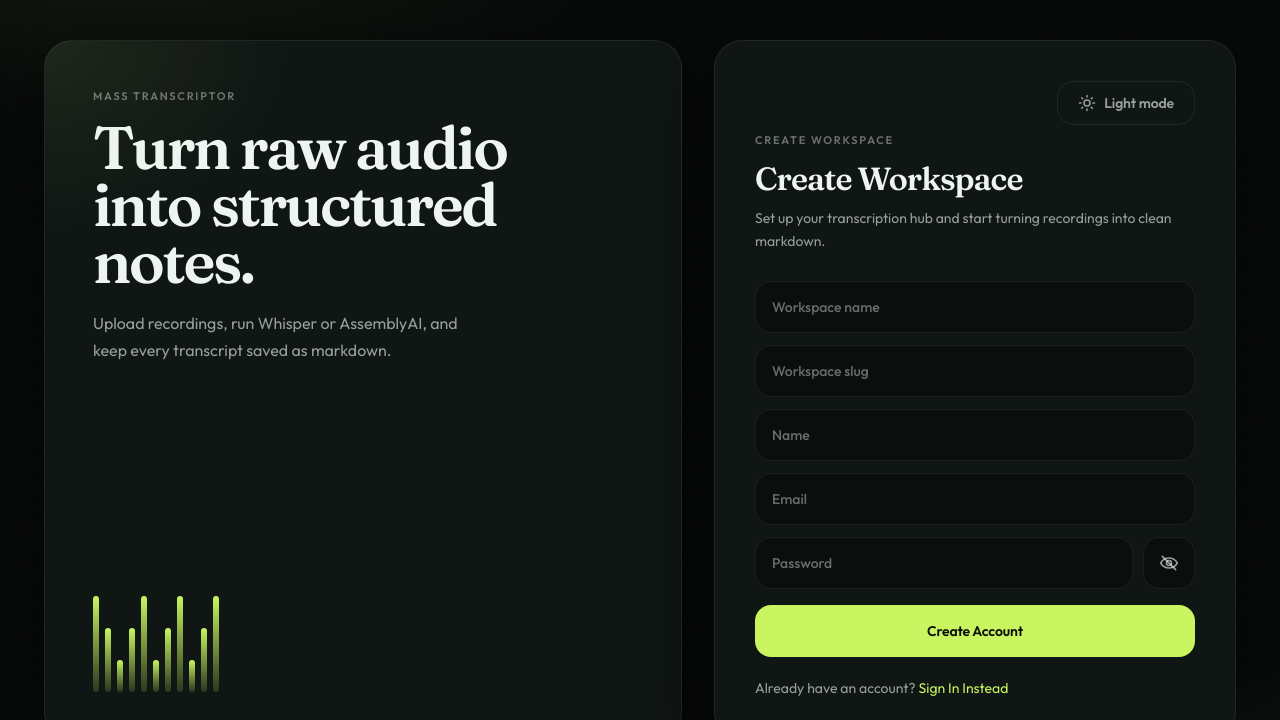
Test: signup stores auth and redirects to workspace
In the field labelled "Workspace name": point(975, 307) x1=755 y1=281 x2=1195 y2=333, type "Acme"
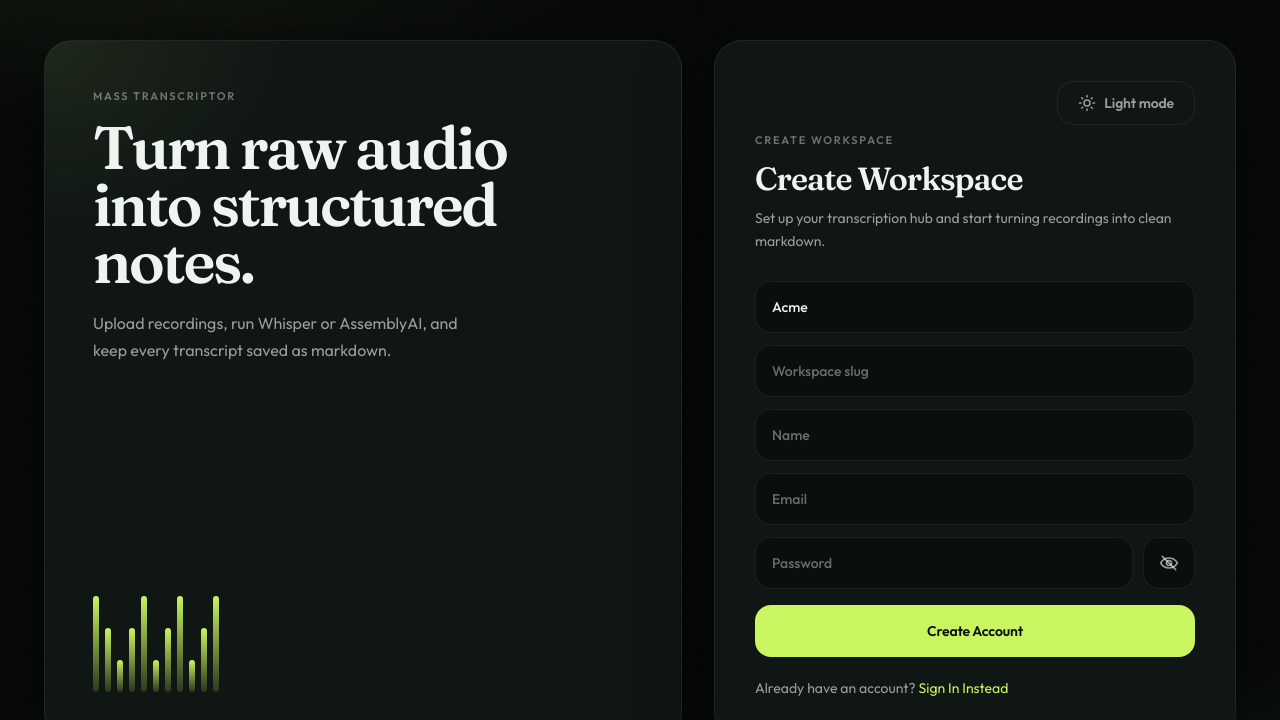
In the field labelled "Workspace slug": point(975, 371) x1=755 y1=345 x2=1195 y2=397, type "acme"
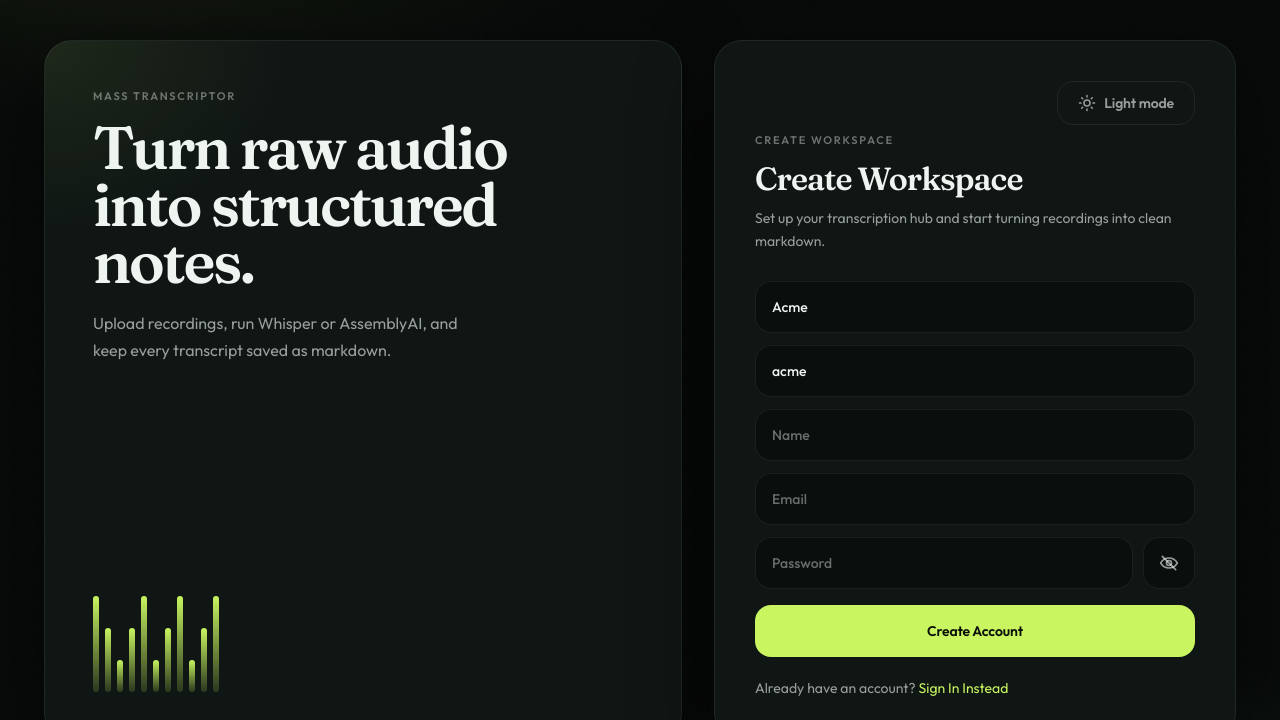
In the field labelled "Name": point(975, 435) x1=755 y1=409 x2=1195 y2=461, type "Owner"
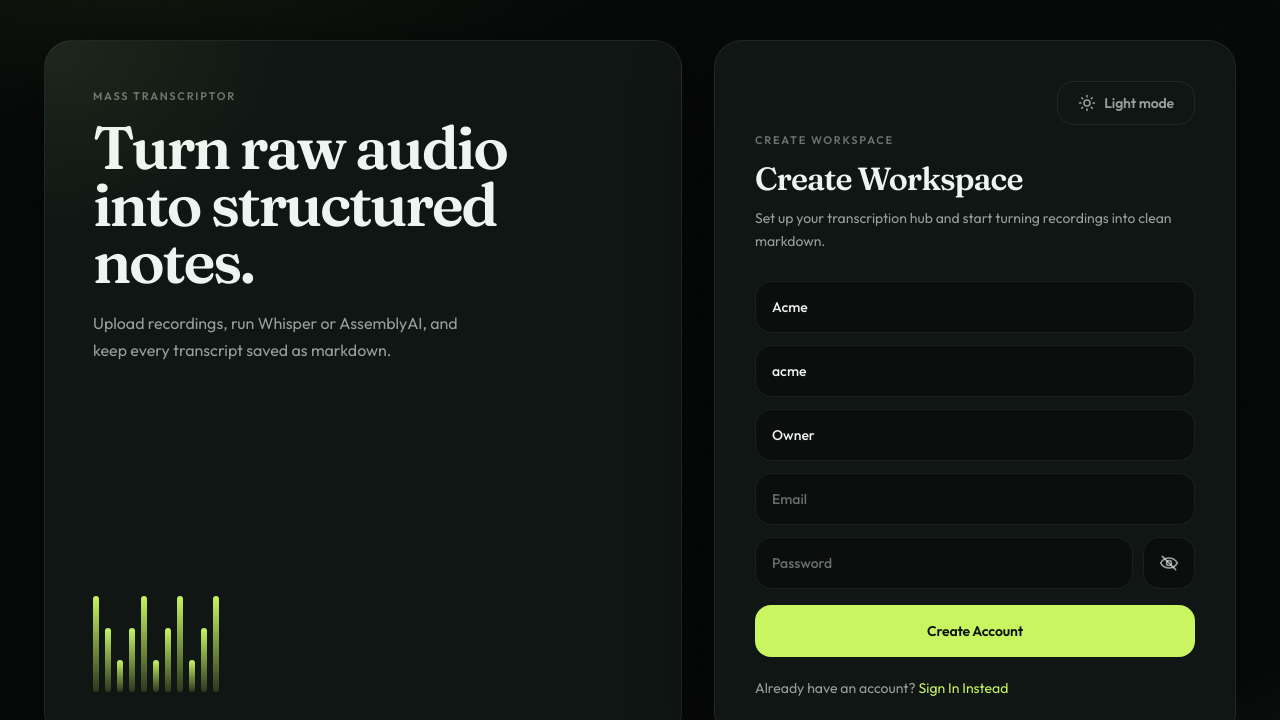
In the field labelled "Email": point(975, 499) x1=755 y1=473 x2=1195 y2=525, type "owner@example.com"
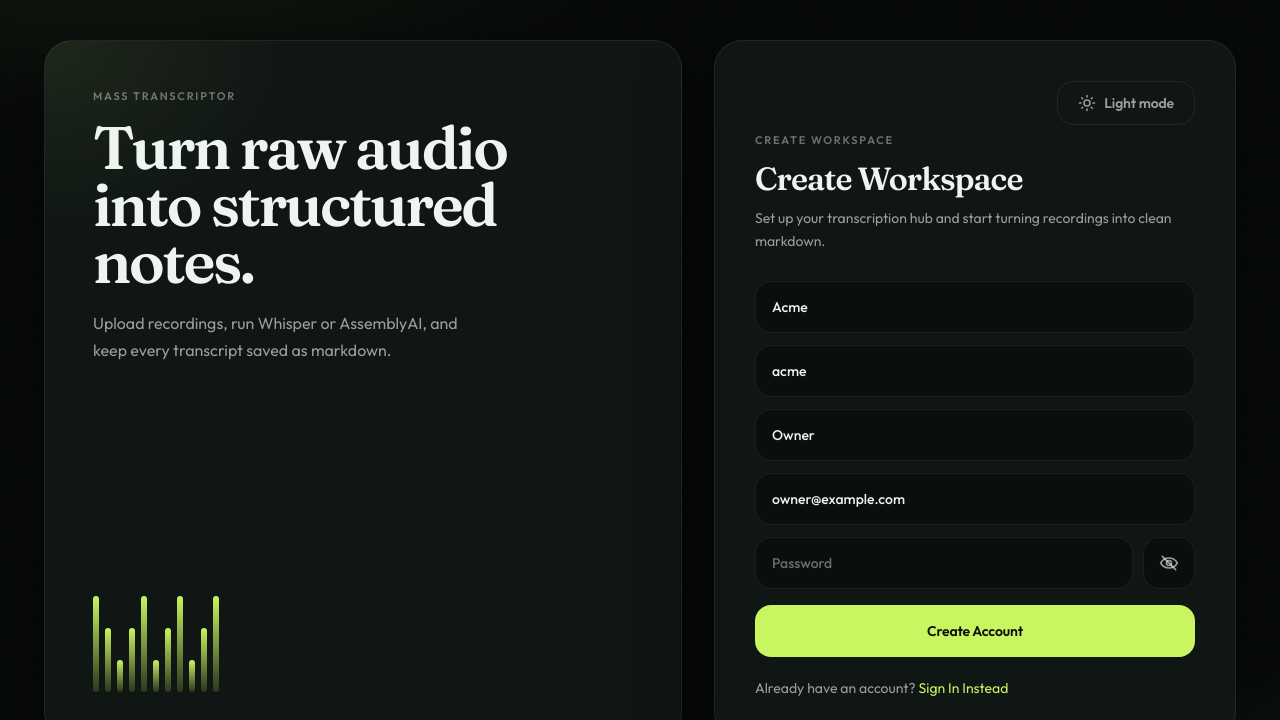
In the password field labelled "Password": point(944, 563) x1=755 y1=537 x2=1133 y2=589, type "secret123"
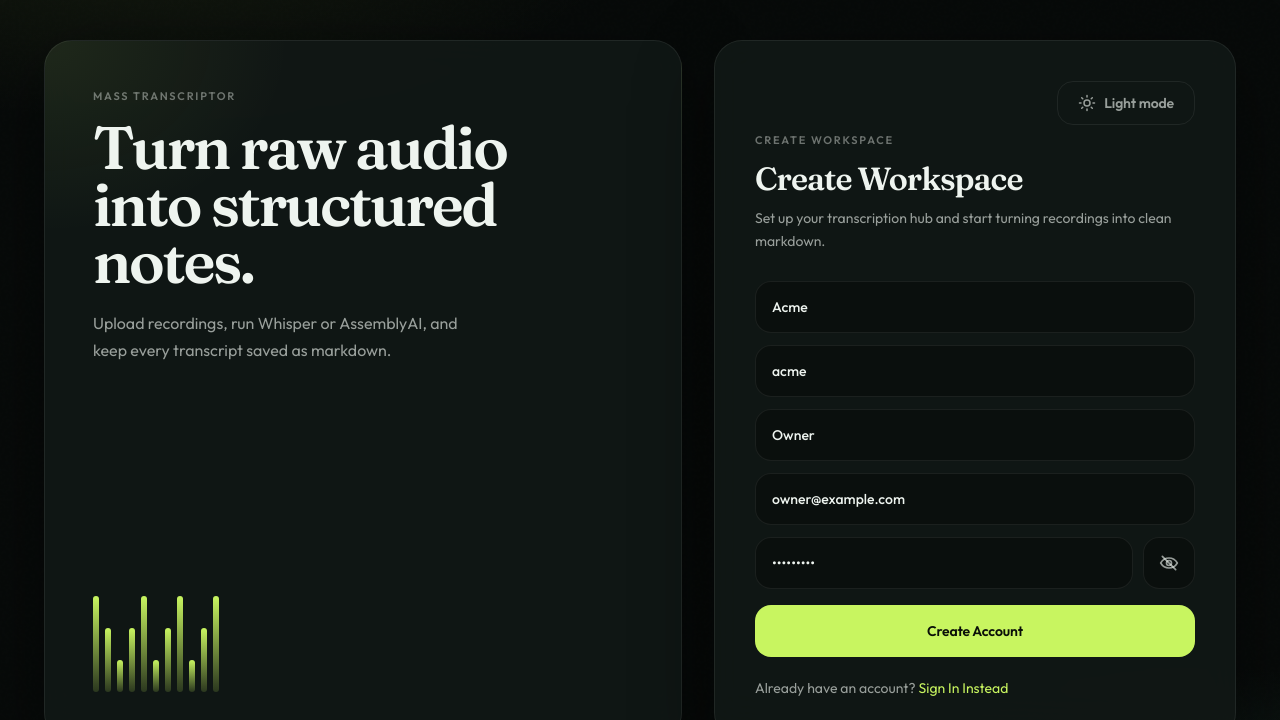
Click the button "Create Account": point(975, 631) x1=755 y1=605 x2=1195 y2=657
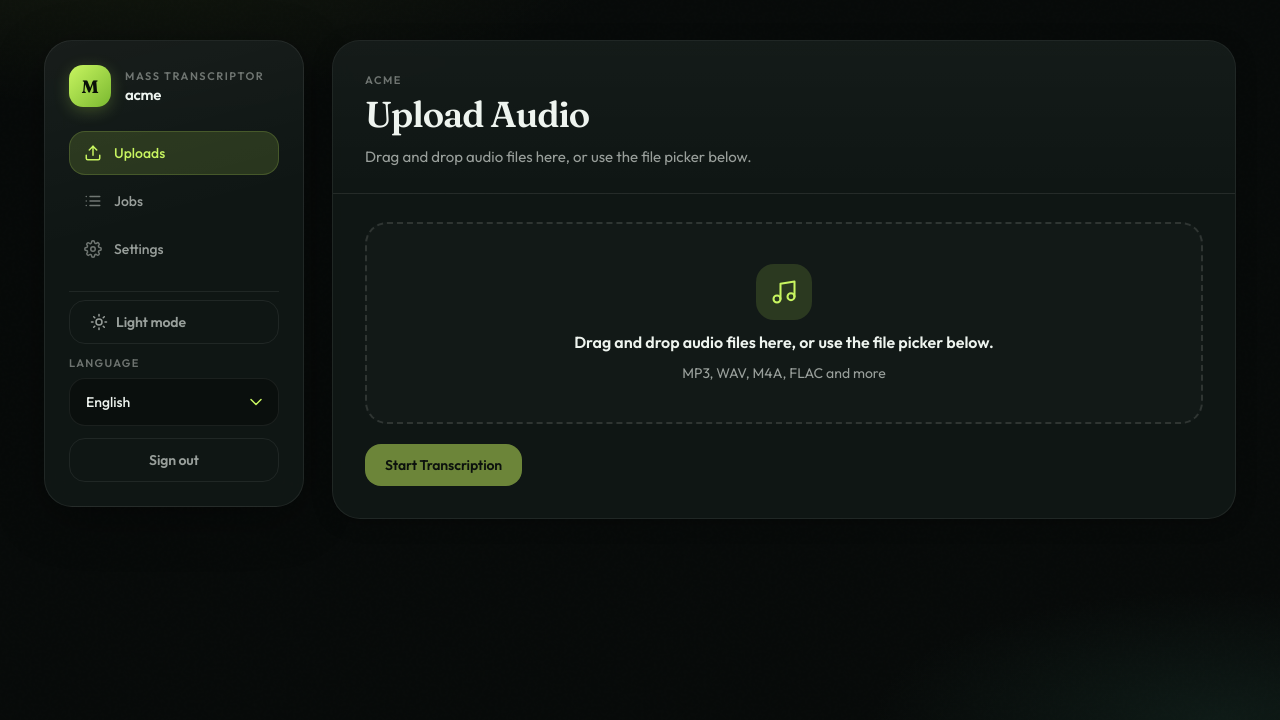
Result: the heading "Upload Audio" is shown at x1=365 y1=92 x2=589 y2=136
